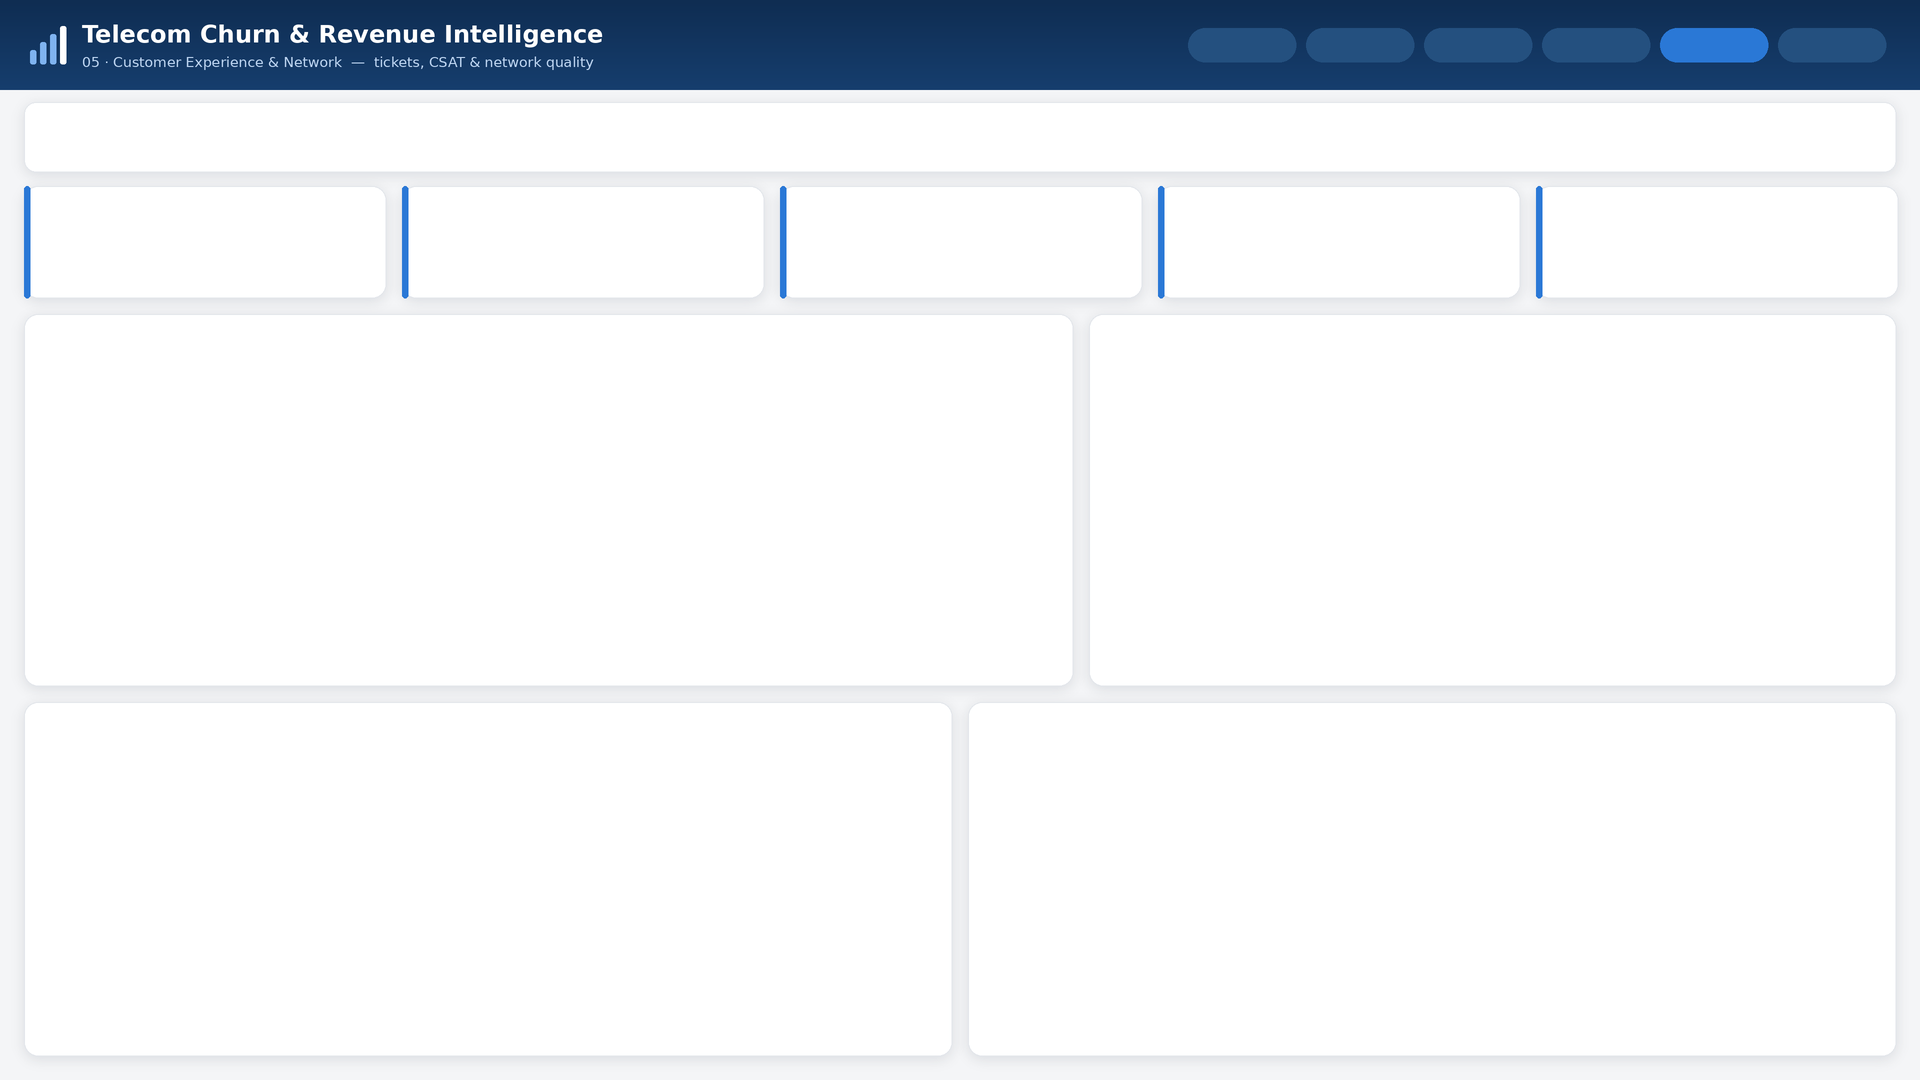

This screenshot's page, from the dashboard's own definition file:
{"tool":"powerbi","page":{"name":"Customer Experience","canvas":[1280,720],"ordinal":4},"visuals":[{"type":"slicer","fields":{"Values":["dim_date.fiscal_year"]},"box":[26,69,299.5,44.7],"z":0},{"type":"slicer","fields":{"Values":["dim_geography.circle"]},"box":[335.5,69,299.5,44.7],"z":1000},{"type":"slicer","fields":{"Values":["dim_customer.service_type"]},"box":[645,69,299.5,44.7],"z":2000},{"type":"slicer","fields":{"Values":["dim_customer.contract_type"]},"box":[954.5,69,299.5,44.7],"z":3000},{"type":"card","fields":{"Values":["_Measures.Total Tickets"]},"box":[28,128,225.3,66.7],"z":4000},{"type":"card","fields":{"Values":["_Measures.Avg CSAT"]},"box":[280,128,225.3,66.7],"z":5000},{"type":"card","fields":{"Values":["_Measures.Avg Resolution Hours"]},"box":[532,128,225.3,66.7],"z":6000},{"type":"card","fields":{"Values":["_Measures.Resolution Rate %"]},"box":[784,128,225.3,66.7],"z":7000},{"type":"card","fields":{"Values":["_Measures.Avg Call Drop Rate %"]},"box":[1036,128,225.3,66.7],"z":8000},{"type":"clusteredBarChart","title":"Tickets by category","fields":{"Category":["fact_tickets.category"],"Y":["_Measures.Total Tickets"]},"box":[20,213.3,691.3,240],"z":9000},{"type":"lineChart","title":"CSAT trend","fields":{"Category":["dim_date.month_start"],"Y":["_Measures.Avg CSAT"]},"box":[730,213.3,530,240],"z":10000},{"type":"scatterChart","title":"Network quality vs churn (by circle)","fields":{"Category":["dim_geography.circle"],"X":["_Measures.Avg Call Drop Rate %"],"Y":["_Measures.Churn Rate %"]},"box":[20,472,610.7,228],"z":11000},{"type":"pivotTable","title":"Support channel performance","fields":{"Rows":["fact_tickets.channel"],"Values":["_Measures.Total Tickets","_Measures.Avg CSAT","_Measures.Avg Resolution Hours"]},"box":[649.3,472,610.7,228],"z":12000}]}

Visuals, with their boxes in screenshot pixels (x1, y1, x2, y2), scaled from the page's 1280x720 canvas onto the 1920x1080 screenshot:
slicer - dim_date.fiscal_year: {"x1": 39, "y1": 104, "x2": 488, "y2": 171}
slicer - dim_geography.circle: {"x1": 503, "y1": 104, "x2": 952, "y2": 171}
slicer - dim_customer.service_type: {"x1": 968, "y1": 104, "x2": 1417, "y2": 171}
slicer - dim_customer.contract_type: {"x1": 1432, "y1": 104, "x2": 1881, "y2": 171}
card - _Measures.Total Tickets: {"x1": 42, "y1": 192, "x2": 380, "y2": 292}
card - _Measures.Avg CSAT: {"x1": 420, "y1": 192, "x2": 758, "y2": 292}
card - _Measures.Avg Resolution Hours: {"x1": 798, "y1": 192, "x2": 1136, "y2": 292}
card - _Measures.Resolution Rate %: {"x1": 1176, "y1": 192, "x2": 1514, "y2": 292}
card - _Measures.Avg Call Drop Rate %: {"x1": 1554, "y1": 192, "x2": 1892, "y2": 292}
"Tickets by category" clusteredBarChart: {"x1": 30, "y1": 320, "x2": 1067, "y2": 680}
"CSAT trend" lineChart: {"x1": 1095, "y1": 320, "x2": 1890, "y2": 680}
"Network quality vs churn (by circle)" scatterChart: {"x1": 30, "y1": 708, "x2": 946, "y2": 1050}
"Support channel performance" pivotTable: {"x1": 974, "y1": 708, "x2": 1890, "y2": 1050}
